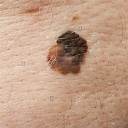Melanoma: (47, 29, 88, 74)
